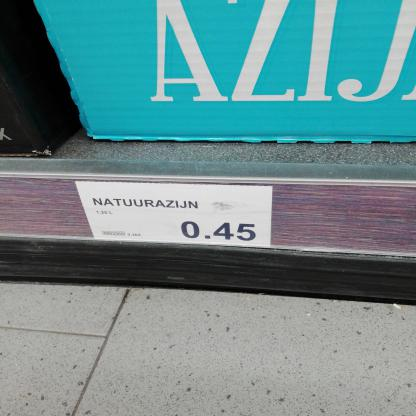prtg: (76, 182, 274, 248)
